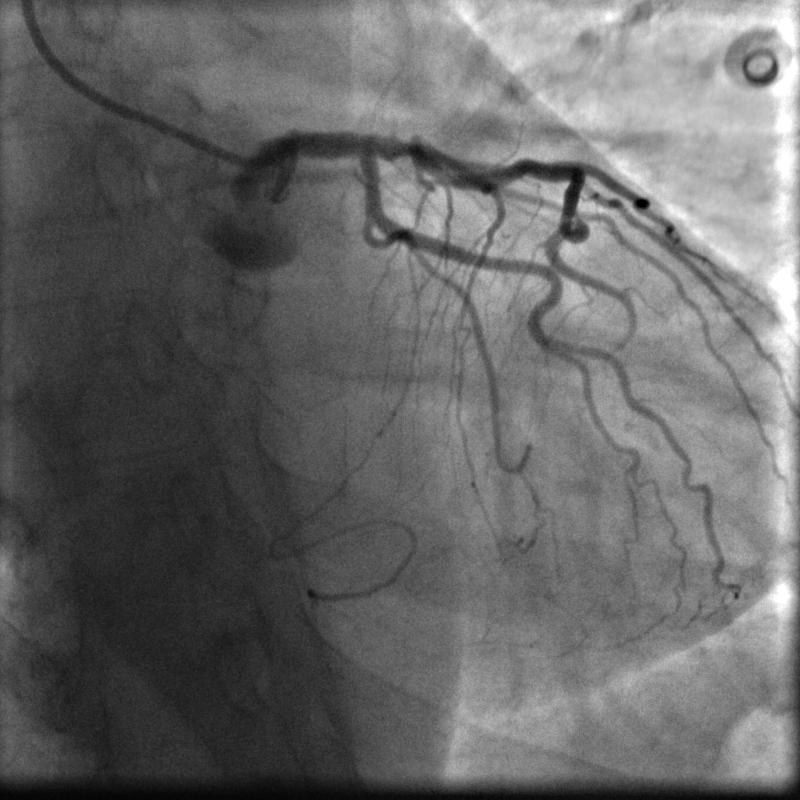Stenosis: (384, 128, 422, 164)
